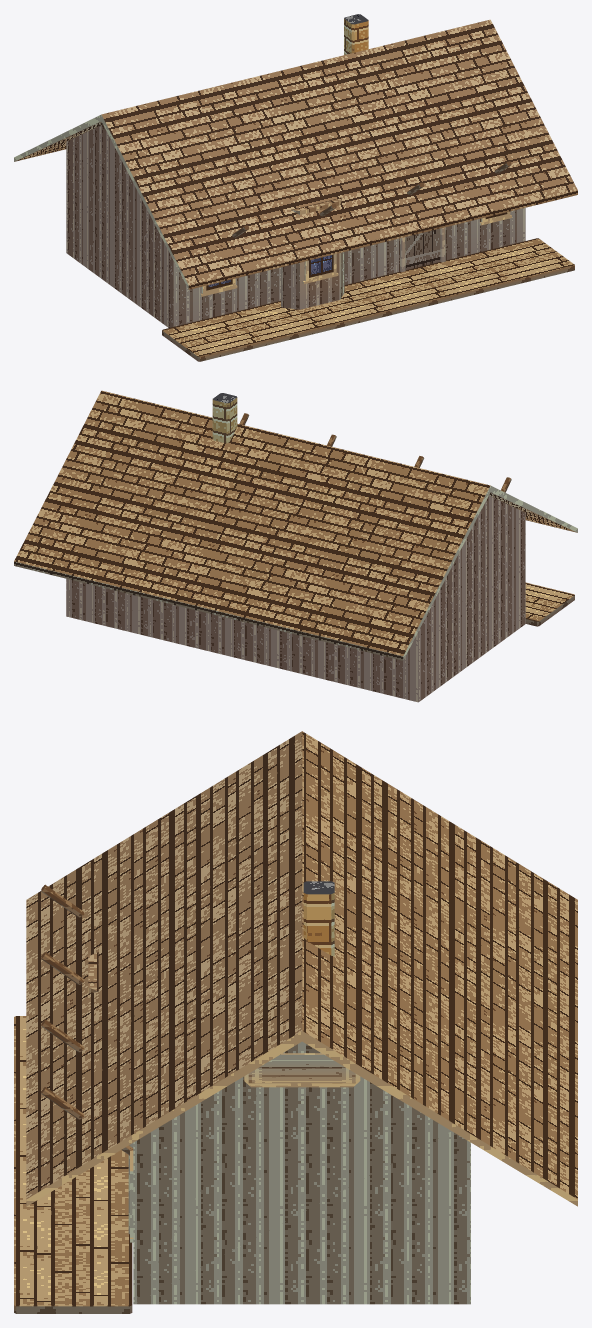
Rendered from wrail.station.glb.
3 renders of one model, top to bottom at view 1: azimuth 30°, elevation 25°; view 2: azimuth 150°, elevation 25°; view 3: azimuth 270°, elevation 25°, orthographic. The views are drawn at different scales.
Visible parts, largest first — view 1: kit_roof, kit_body, kit_deck, kit_bay, kit_card_panes, kit_chimney, kit_windows; view 2: kit_roof, kit_body, kit_deck, kit_chimney; view 3: kit_roof, kit_body, kit_deck, kit_card_panes, kit_chimney, kit_braces, kit_trim.
Boxes of the visible parts, bbox=[...] form: kit_roof: bbox=[14, 19, 577, 289]; kit_body: bbox=[66, 125, 525, 327]; kit_deck: bbox=[162, 238, 574, 361]; kit_bay: bbox=[281, 197, 344, 309]; kit_card_panes: bbox=[206, 212, 507, 290]; kit_chimney: bbox=[344, 14, 368, 54]; kit_windows: bbox=[200, 211, 511, 296]; kit_roof: bbox=[14, 390, 577, 660]; kit_body: bbox=[66, 496, 525, 702]; kit_deck: bbox=[525, 582, 574, 626]; kit_chimney: bbox=[212, 393, 237, 443]; kit_roof: bbox=[26, 731, 577, 1206]; kit_body: bbox=[133, 1041, 470, 1304]; kit_deck: bbox=[14, 1016, 132, 1313]; kit_card_panes: bbox=[248, 1059, 355, 1083]; kit_chimney: bbox=[303, 881, 334, 956]; kit_braces: bbox=[41, 884, 133, 1155]; kit_trim: bbox=[128, 1053, 360, 1234].
Size of the model in its own units: 12.6 by 6.5 by 10.02.
10 materials, 10 textured.
